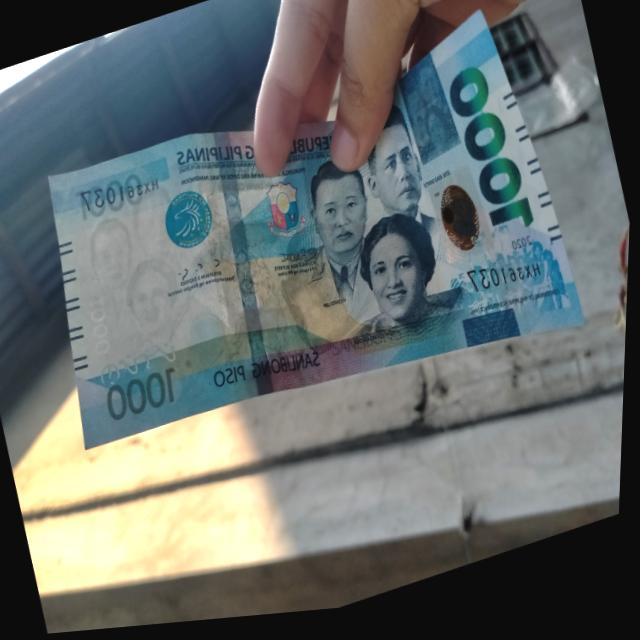concealed_value: (397, 61, 462, 173)
optically_variable_device: (424, 171, 496, 278)
security_thread: (194, 127, 296, 410)
see_through_mark: (94, 333, 184, 398)
value_watermark: (82, 291, 117, 365)
watermark: (76, 179, 206, 355)
